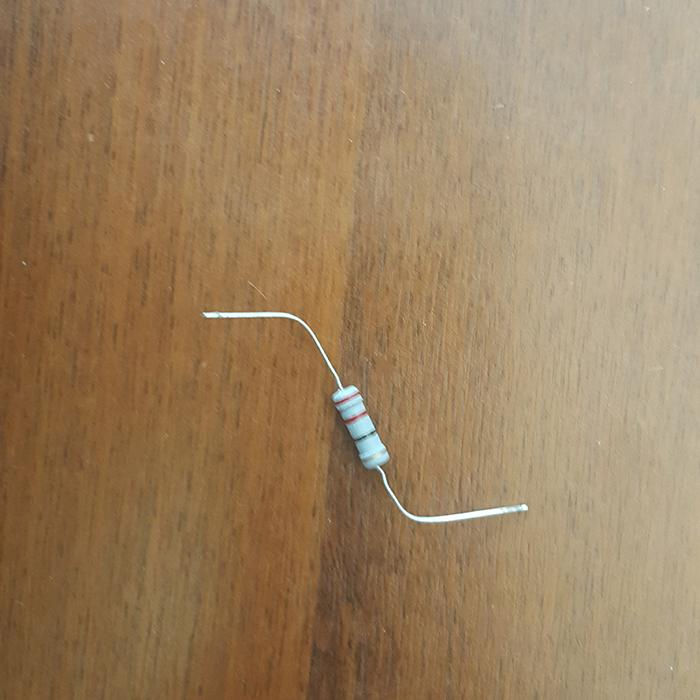resistor: (331, 383, 388, 469)
